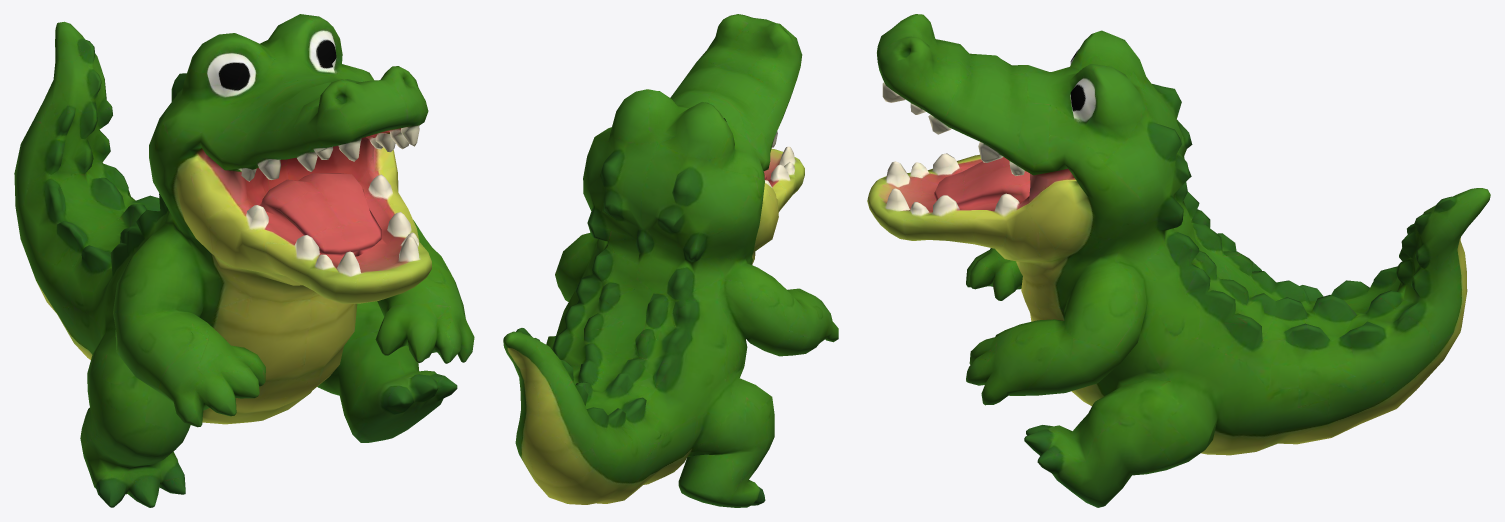
The model's file is crocodile.glb.
3 views of the same model, side by side, from view 1: azimuth 30°, elevation 25°; view 2: azimuth 150°, elevation 25°; view 3: azimuth 270°, elevation 25° (orthographic). The views are drawn at different scales.
Parts seen in each view (by area): view 1: geometry_0; view 2: geometry_0; view 3: geometry_0.
Part boxes in pixels (<box>): geometry_0: <box>14,14,474,507</box>; geometry_0: <box>503,14,838,507</box>; geometry_0: <box>867,14,1490,507</box>.
Size of the model in its own units: 0.5176 by 0.7676 by 0.957.
Materials: 1 (1 with a texture image).
